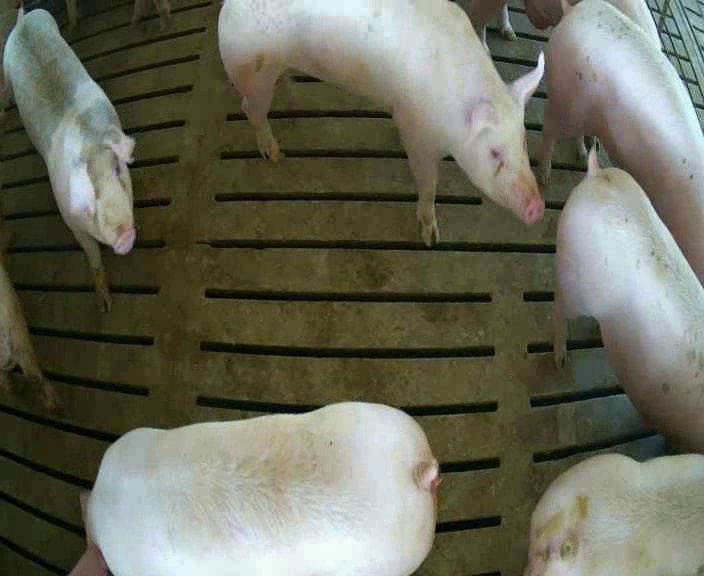pig: (219, 2, 543, 245), (69, 403, 437, 575), (541, 0, 703, 283), (555, 147, 703, 451), (5, 9, 134, 310), (525, 454, 703, 574)
